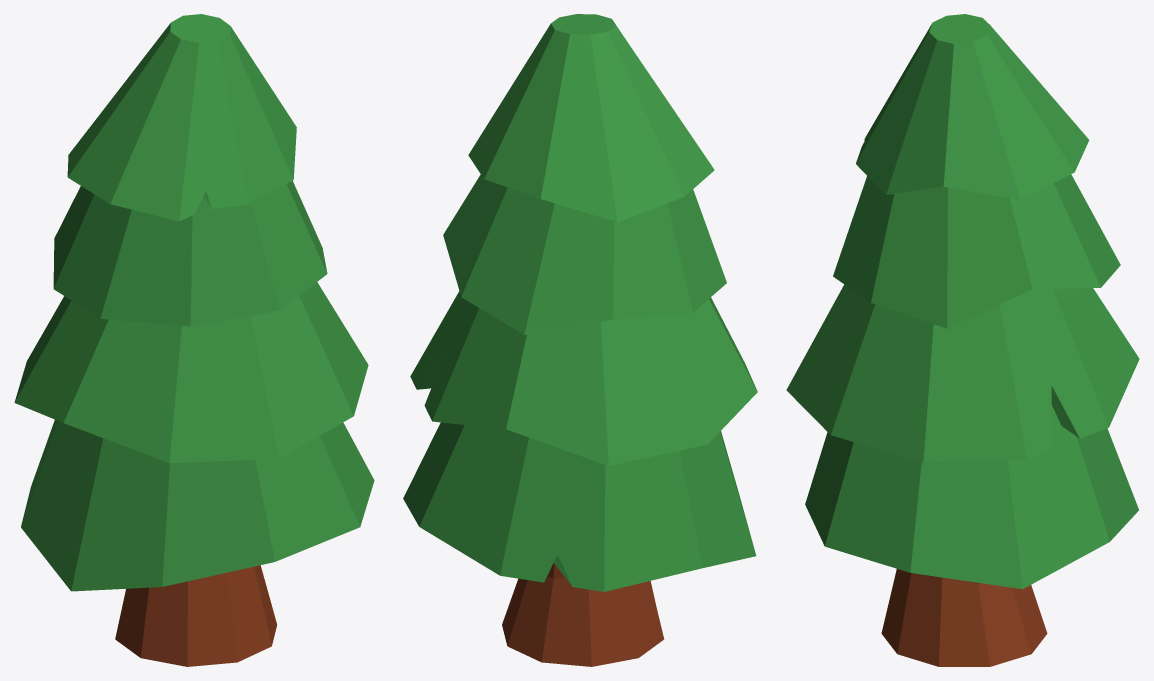
The model's file is Fir1.fbx.
3 renders of one model, left to right at view 1: azimuth 30°, elevation 25°; view 2: azimuth 150°, elevation 25°; view 3: azimuth 270°, elevation 25°, orthographic.
Visible parts, largest first — view 1: Cylinder.002, Cylinder.001, Cylinder.004, Cylinder.003, Cylinder; view 2: Cylinder.001, Cylinder.002, Cylinder.004, Cylinder.003, Cylinder; view 3: Cylinder.002, Cylinder.001, Cylinder.003, Cylinder.004, Cylinder.
Part boxes in pixels (x1,y1,x2,y2): Cylinder.002: [14, 282, 368, 463]; Cylinder.001: [21, 419, 374, 591]; Cylinder.004: [67, 14, 296, 221]; Cylinder.003: [53, 181, 327, 326]; Cylinder: [115, 565, 276, 666]; Cylinder.001: [403, 422, 756, 591]; Cylinder.002: [410, 291, 757, 465]; Cylinder.004: [468, 14, 714, 222]; Cylinder.003: [443, 174, 726, 334]; Cylinder: [502, 563, 664, 666]; Cylinder.002: [786, 284, 1139, 462]; Cylinder.001: [805, 405, 1138, 589]; Cylinder.003: [833, 174, 1120, 328]; Cylinder.004: [856, 14, 1089, 199]; Cylinder: [881, 569, 1047, 666].
Bounding box in the file's own units: 384 × 729 × 384.
